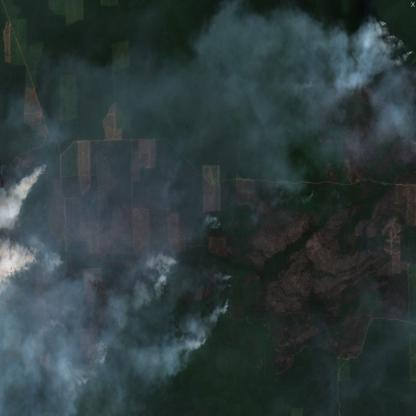fire: (0, 137, 49, 305), (50, 316, 112, 391), (364, 12, 416, 90)
